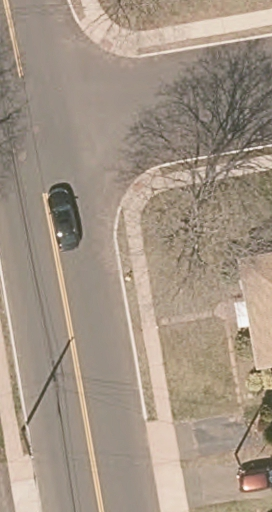DT: (18, 401, 39, 459)
